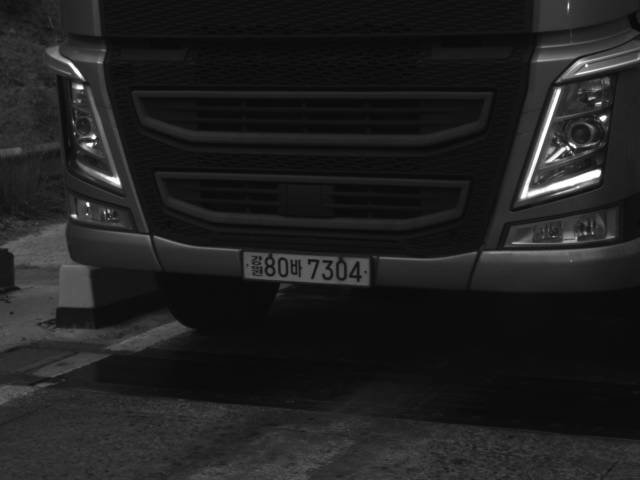car: (43, 1, 640, 363)
plate: (241, 250, 373, 286)
